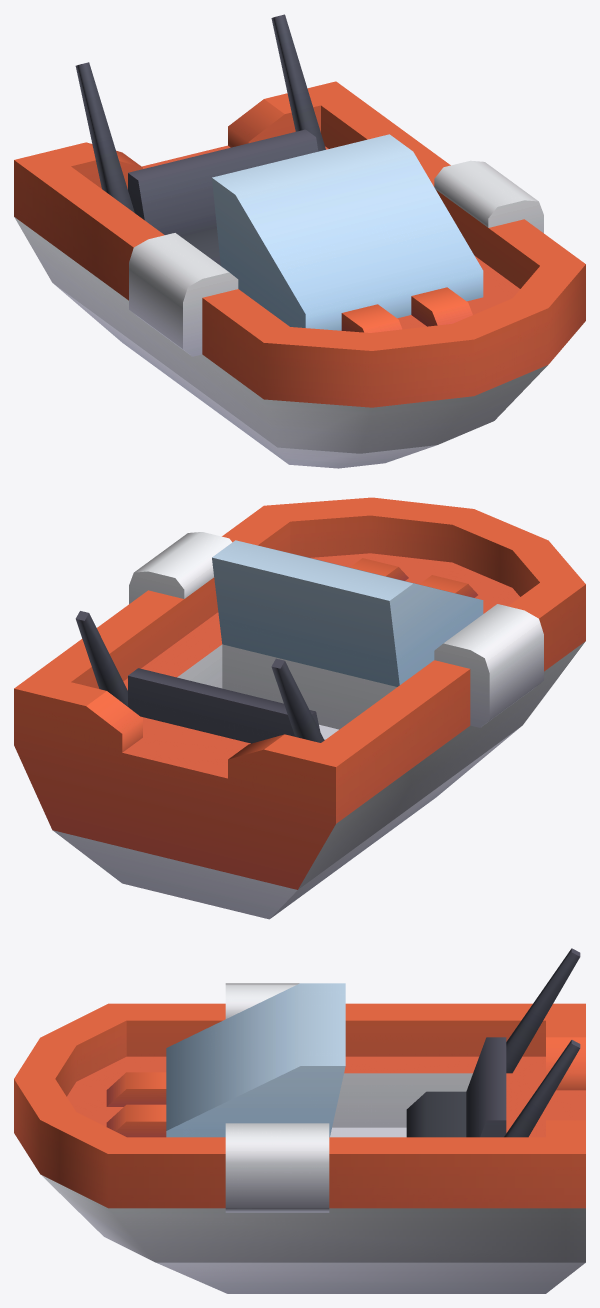
The model's file is boat-speed-e-transformed.glb.
The picture shows the model from 3 angles, top to bottom: view 1: azimuth 30°, elevation 25°; view 2: azimuth 150°, elevation 25°; view 3: azimuth 270°, elevation 25°; orthographic projection. The views are drawn at different scales.
Visible parts, largest first — view 1: boat-speed-e; view 2: boat-speed-e; view 3: boat-speed-e.
Part boxes in pixels (bbox=[...]): boat-speed-e: bbox=[14, 14, 585, 468]; boat-speed-e: bbox=[14, 497, 585, 919]; boat-speed-e: bbox=[14, 948, 585, 1293].
Bounding box in the file's own units: 2 × 1.46 × 2.87.
Materials: 1 (1 with a texture image).
